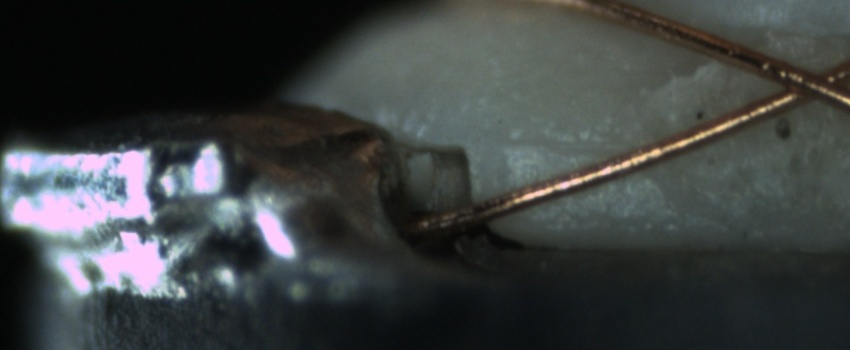CL: (751, 51, 846, 116)
DL: (506, 113, 639, 173)
